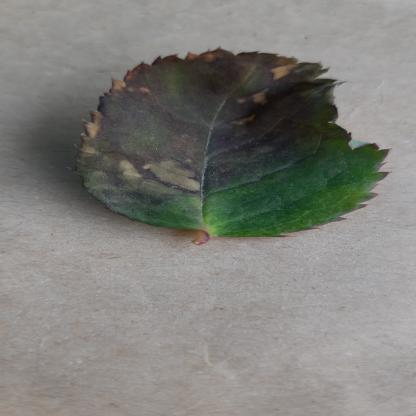powdery-mildew: (69, 47, 406, 242)
